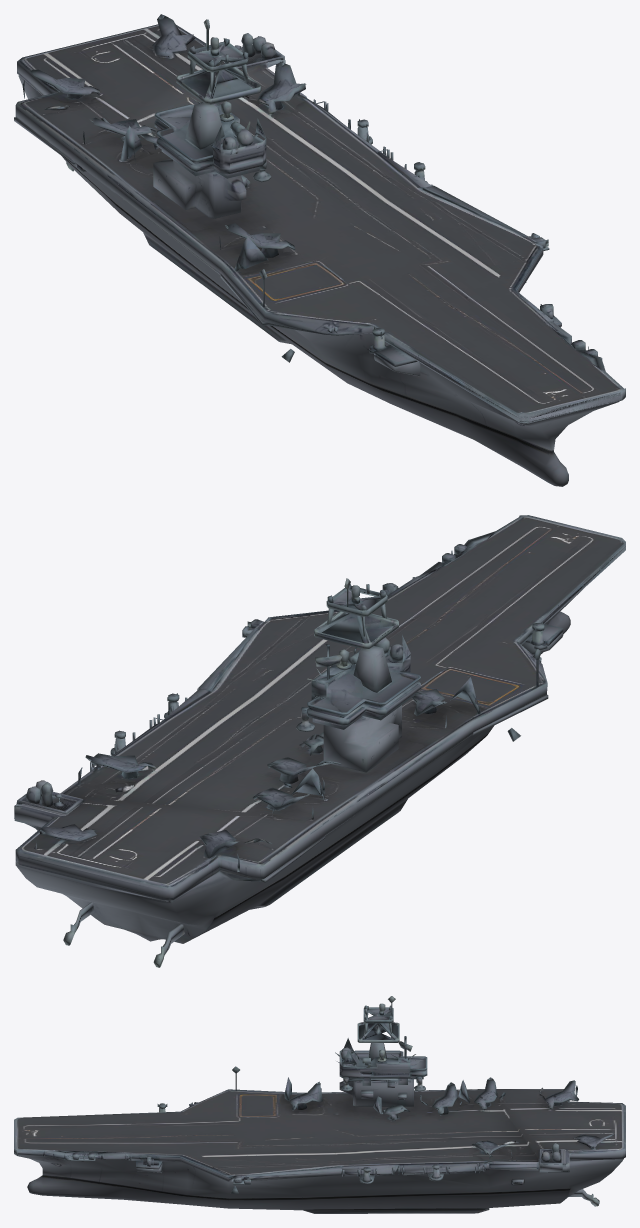
The model's file is original_glb.glb.
3 views of the same model, one above another, from view 1: azimuth 30°, elevation 25°; view 2: azimuth 150°, elevation 25°; view 3: azimuth 270°, elevation 25° (orthographic). The views are drawn at different scales.
Visible parts, largest first — view 1: Aircraft Carrier; view 2: Aircraft Carrier; view 3: Aircraft Carrier.
Part boxes in pixels (bbox=[...]): Aircraft Carrier: bbox=[14, 14, 625, 486]; Aircraft Carrier: bbox=[14, 515, 625, 967]; Aircraft Carrier: bbox=[14, 996, 625, 1213].
Size of the model in its own units: 0.3496 by 0.3262 by 0.998.
1 material, 1 textured.
